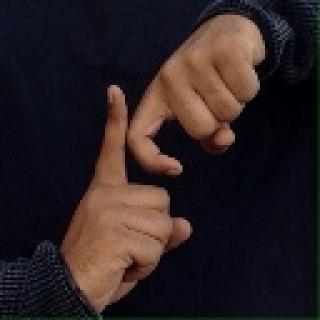K: (67, 0, 255, 320)
